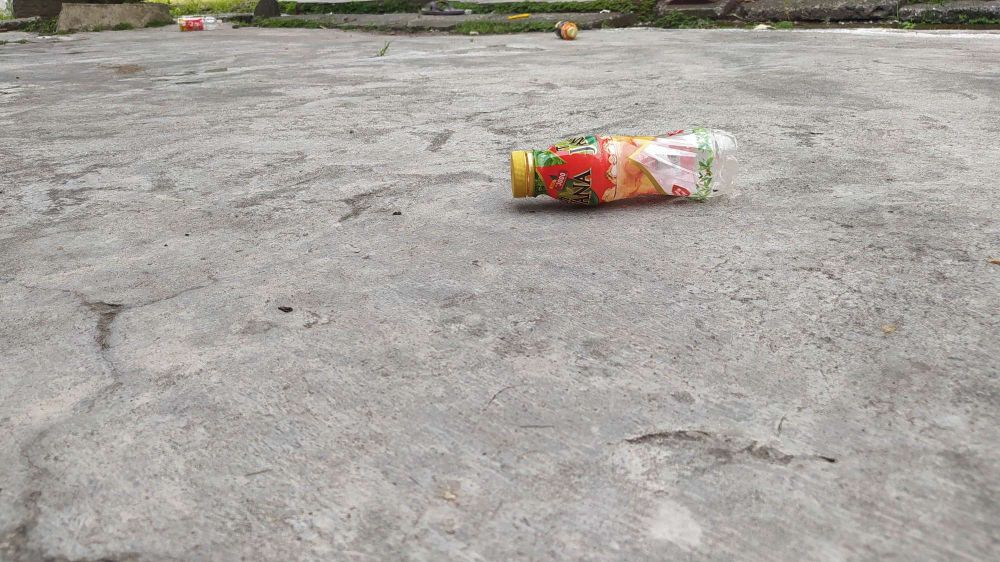botol: (486, 129, 749, 209), (160, 4, 248, 42), (532, 15, 585, 44)
